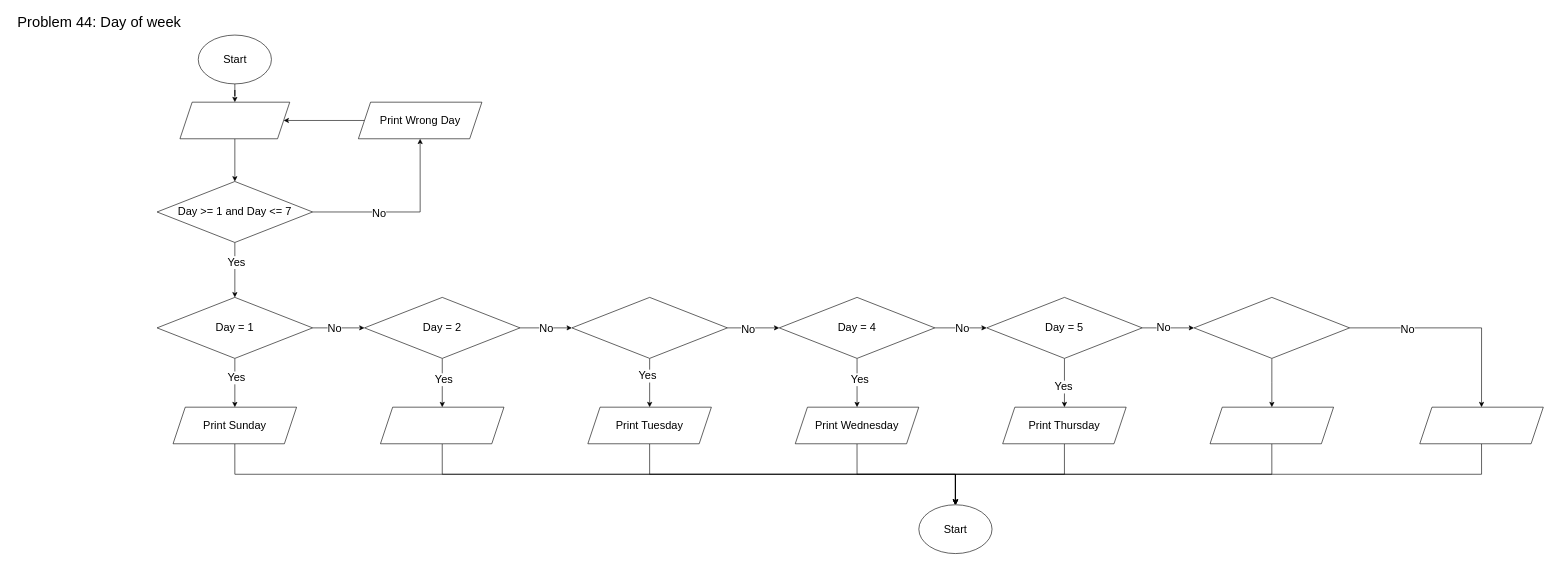
This 1554x564 diagram has some shape labels left out. The box of each missing label's shape, as (x1, y1, x2, y2) in pixels:
Day = 3: (571, 297, 727, 358)
Day = 6: (1193, 297, 1350, 358)
Print Friday: (1209, 407, 1334, 444)
Print Monday: (380, 407, 504, 444)
Print Saturday: (1419, 407, 1543, 444)
Read Day: (179, 102, 290, 139)
